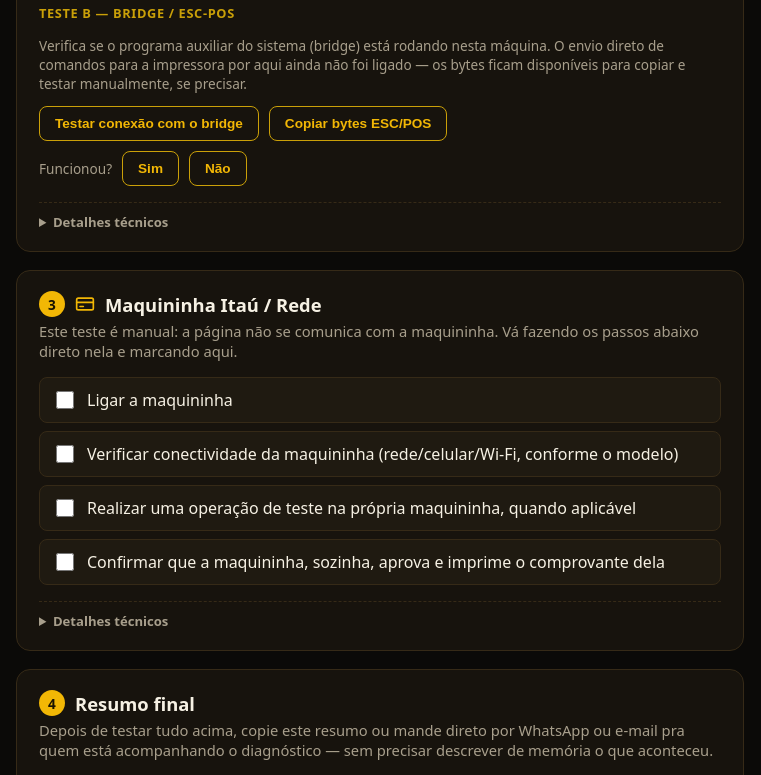
Test: DiagnosticoTela › confirma a maquininha so depois que todos os passos do checklist forem marcados
This screenshot has width=761, height=775.
(page scrolled)
Check: the text "confirmada funcionando de forma autônoma" is not shown
Click the checkbox labelled "Ligar a maquininha": (65, 400) [56,391,74,409]
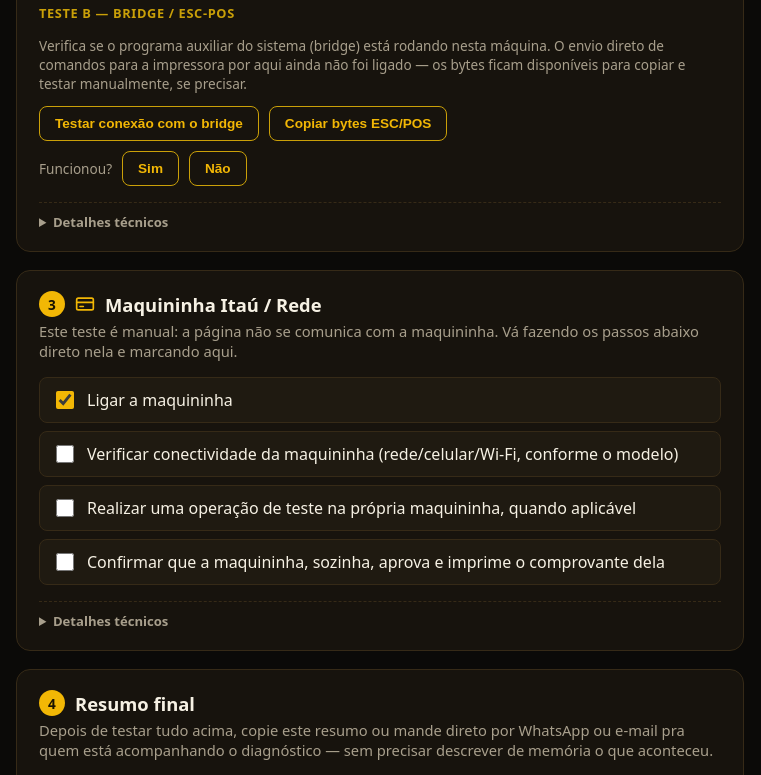
Click the 2nd checkbox: (65, 454) [56,445,74,463]
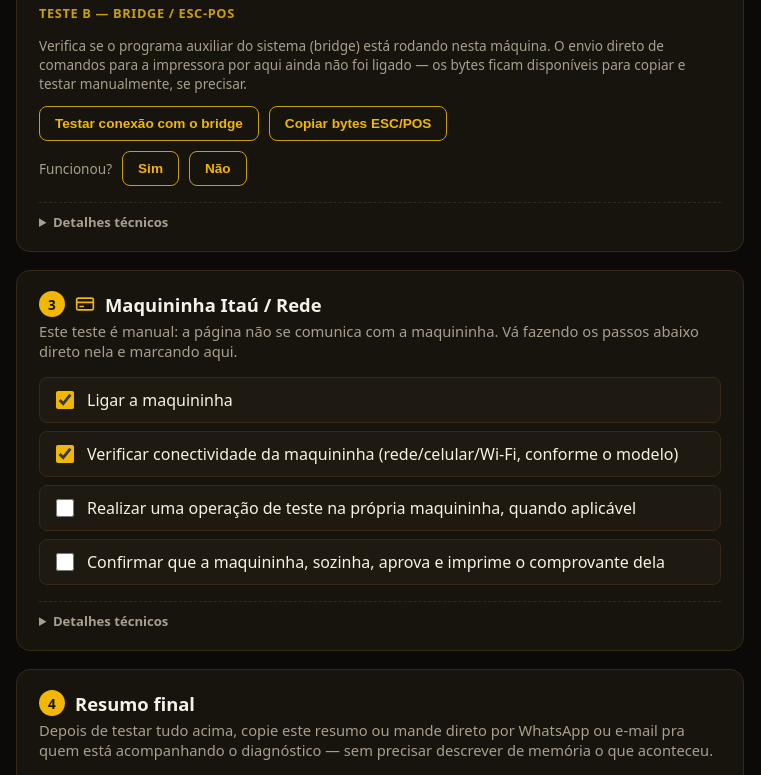
Click the 3rd checkbox: (65, 508) [56,499,74,517]
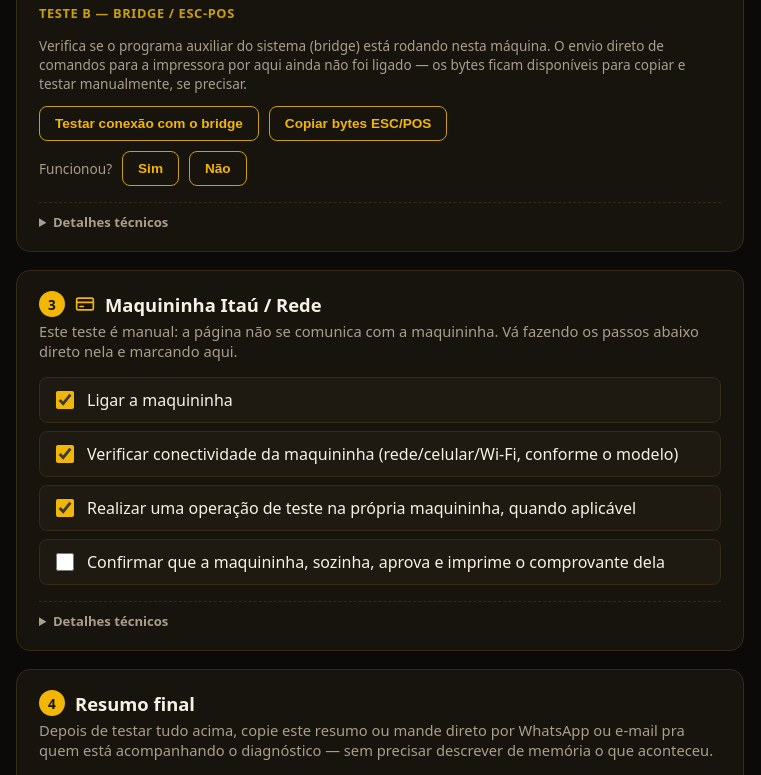
Click the 4th checkbox: (65, 562) [56,553,74,571]
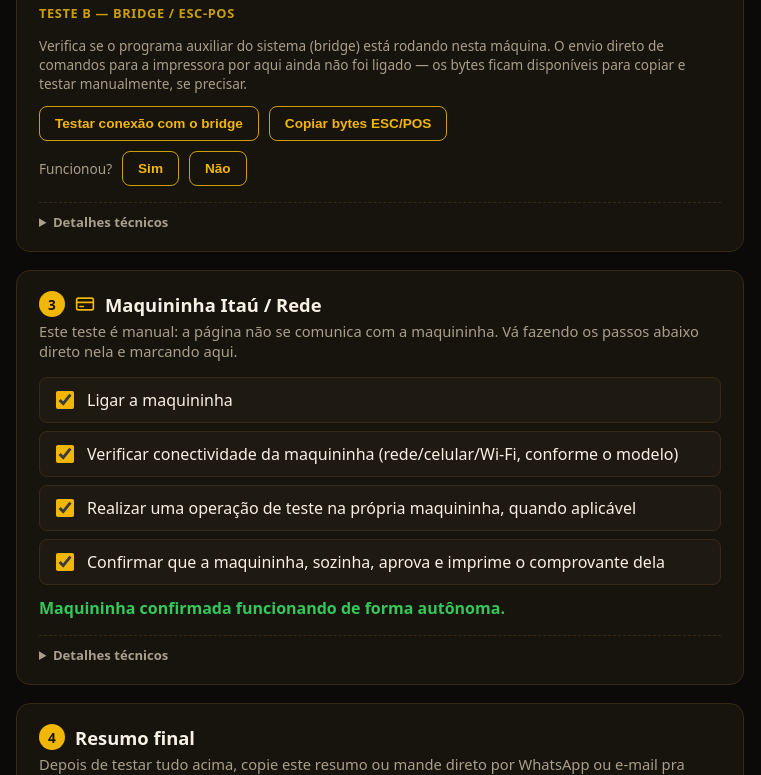
Check: the text "Maquininha confirmada funcionando de forma autônoma." is shown, box [39,597,505,619]
